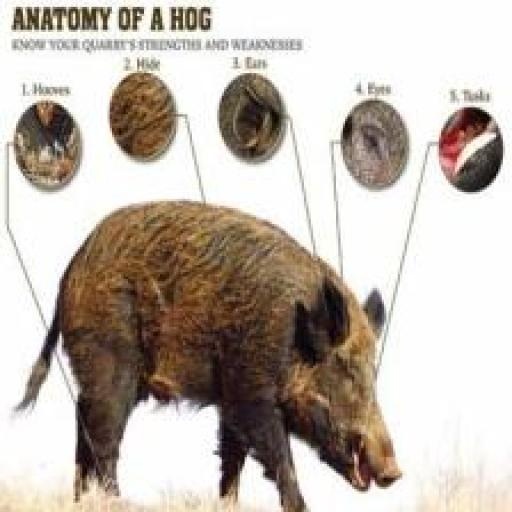Pig: (14, 199, 400, 512)
